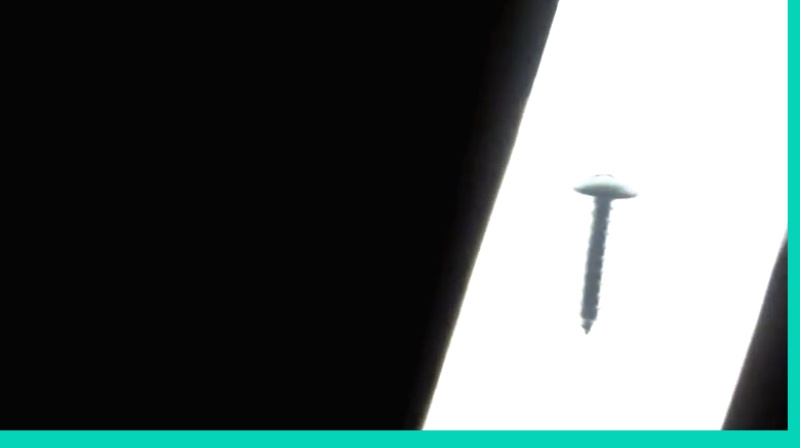S003: (566, 169, 641, 334)
